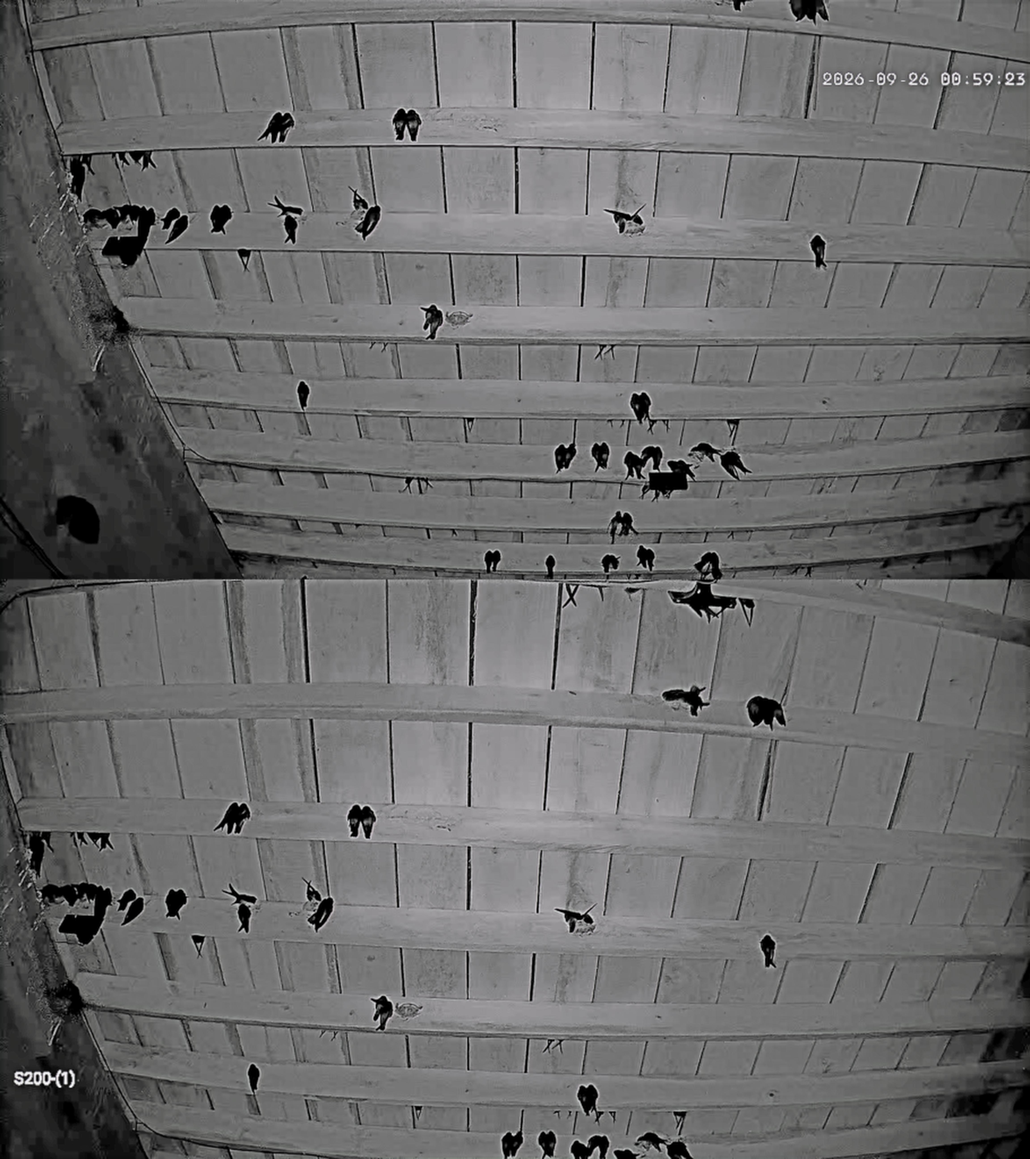swallow bird: (662, 685, 710, 717), (46, 981, 85, 1020), (747, 695, 785, 730), (555, 903, 595, 934), (213, 802, 251, 834), (258, 112, 295, 143), (605, 205, 644, 233), (27, 831, 49, 877), (720, 449, 751, 480), (355, 205, 382, 240), (307, 896, 333, 932), (790, 0, 828, 24), (694, 551, 722, 582), (137, 207, 156, 252), (420, 304, 444, 339), (577, 1083, 599, 1121), (42, 884, 80, 906), (371, 995, 394, 1031), (267, 195, 304, 217), (222, 882, 257, 905), (68, 156, 86, 200), (679, 605, 724, 622), (165, 214, 188, 244), (554, 441, 576, 472), (689, 443, 722, 463), (623, 451, 645, 481), (630, 392, 651, 423), (94, 887, 113, 921), (121, 897, 144, 925), (210, 205, 233, 233), (502, 1129, 523, 1159), (166, 889, 187, 918), (640, 445, 663, 471), (636, 1132, 669, 1150), (667, 460, 695, 481), (113, 203, 141, 224), (591, 442, 610, 472), (405, 109, 422, 142), (760, 933, 776, 968), (537, 1131, 557, 1159), (810, 234, 826, 269), (587, 1135, 609, 1159), (360, 805, 376, 838), (129, 151, 156, 170), (59, 884, 82, 906), (617, 512, 638, 536), (667, 1139, 692, 1159), (347, 804, 362, 837), (83, 208, 107, 228), (395, 1002, 423, 1019), (608, 510, 622, 544), (75, 882, 100, 901), (561, 583, 579, 609), (392, 108, 406, 141), (40, 884, 63, 904), (625, 213, 645, 236), (302, 877, 321, 901), (283, 214, 298, 244), (102, 207, 122, 229), (162, 207, 181, 230), (739, 597, 754, 626), (237, 902, 251, 933), (88, 832, 112, 850), (638, 545, 654, 571), (350, 187, 368, 210), (570, 1139, 590, 1159), (247, 1063, 260, 1093), (297, 380, 310, 410), (485, 550, 501, 573), (629, 394, 642, 422), (127, 205, 147, 223), (601, 554, 618, 575), (500, 1132, 513, 1159), (725, 419, 738, 445), (673, 1110, 687, 1134), (237, 248, 251, 272), (588, 584, 606, 602), (191, 934, 205, 957), (594, 344, 614, 360), (37, 831, 52, 852), (141, 150, 156, 170), (79, 154, 94, 174), (542, 1039, 563, 1053), (545, 555, 556, 579), (649, 489, 671, 501), (614, 1149, 640, 1159), (483, 550, 493, 574), (419, 477, 433, 494), (71, 832, 86, 847), (128, 151, 144, 165), (111, 152, 128, 165), (128, 151, 143, 165), (726, 530, 741, 544), (463, 417, 474, 434), (413, 1105, 423, 1123), (733, 0, 748, 12), (402, 476, 414, 491), (658, 418, 670, 431), (641, 484, 650, 499), (605, 1112, 616, 1124), (617, 417, 630, 427), (607, 343, 615, 359), (624, 588, 637, 596), (805, 565, 812, 578), (648, 420, 655, 433), (608, 419, 621, 426), (791, 566, 798, 578), (380, 342, 388, 352), (451, 529, 458, 538), (369, 340, 375, 350)
